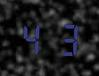four: (19, 19, 48, 55)
three: (49, 20, 78, 56)
